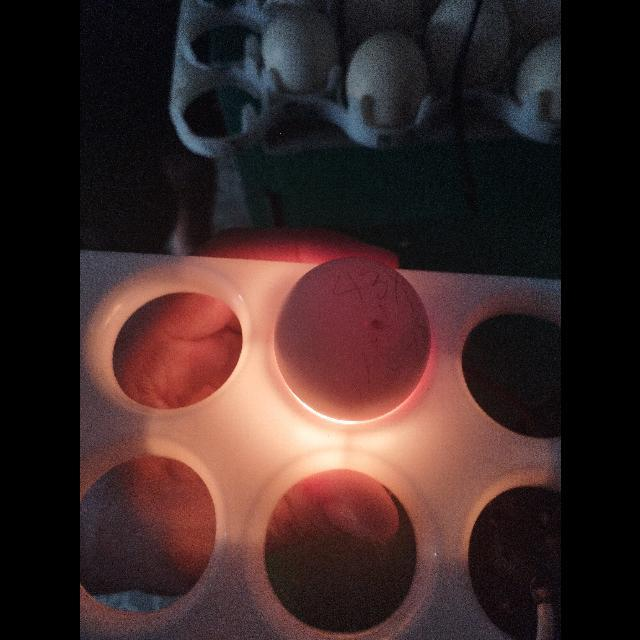Fertile: (272, 253, 434, 427)
